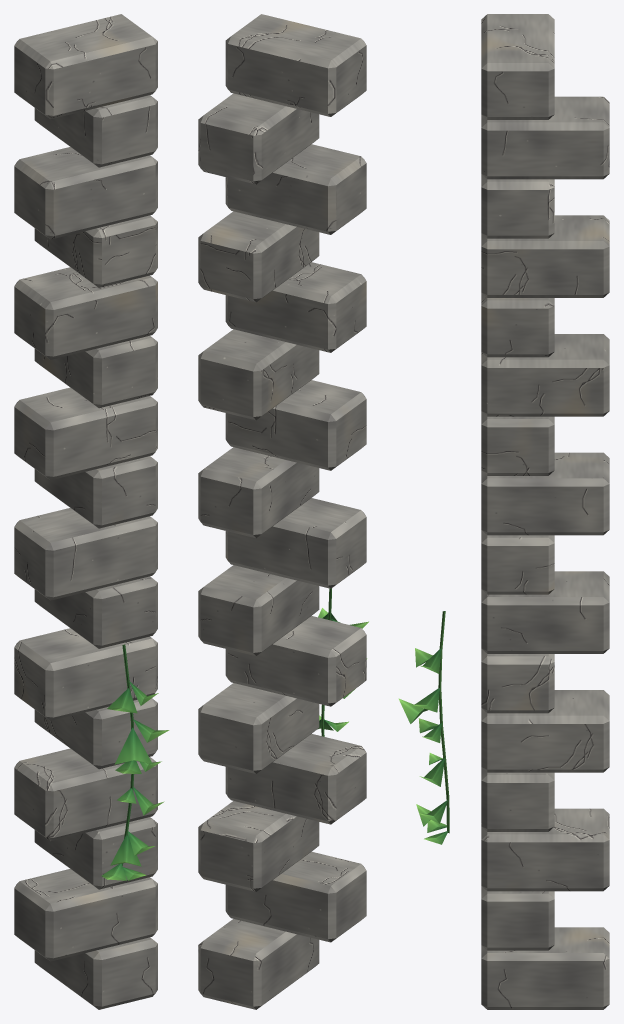
The model's file is pit_corner_out.glb.
3 renders of one model, left to right at view 1: azimuth 30°, elevation 25°; view 2: azimuth 150°, elevation 25°; view 3: azimuth 270°, elevation 25°, orthographic. The views are drawn at different scales.
Parts seen in each view (by area): view 1: pit_corner_out_blocks, pit_corner_out_green; view 2: pit_corner_out_blocks, pit_corner_out_green; view 3: pit_corner_out_blocks, pit_corner_out_green.
Boxes of the visible parts, bbox=[...] form: pit_corner_out_blocks: bbox=[14, 14, 157, 1009]; pit_corner_out_green: bbox=[101, 644, 169, 880]; pit_corner_out_blocks: bbox=[198, 14, 366, 1009]; pit_corner_out_green: bbox=[317, 588, 368, 736]; pit_corner_out_blocks: bbox=[481, 14, 609, 1009]; pit_corner_out_green: bbox=[398, 611, 449, 844].
Size of the model in its own units: 1.47 by 11.97 by 2.42.
Materials: 2 (2 with a texture image).
